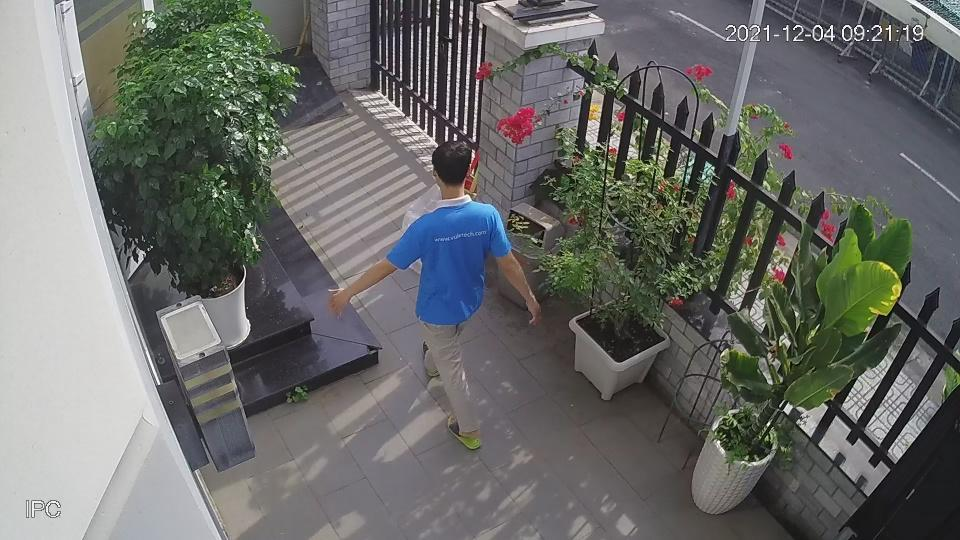person: (331, 137, 540, 445)
